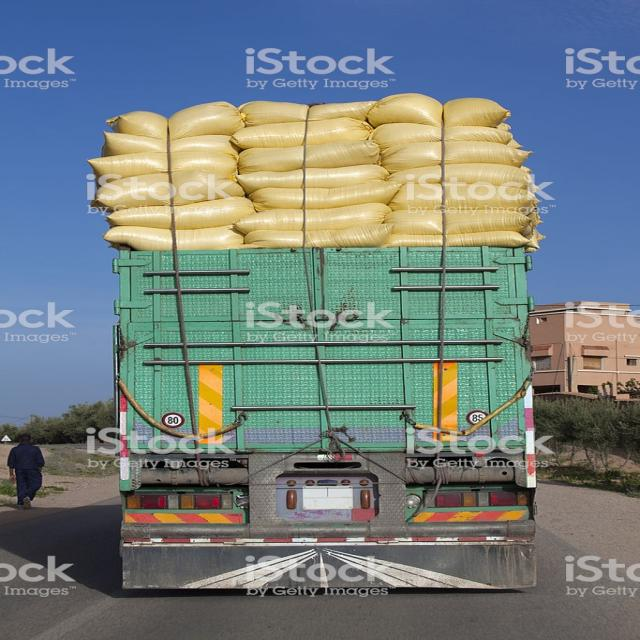overloaded_truck: (88, 92, 546, 592)
